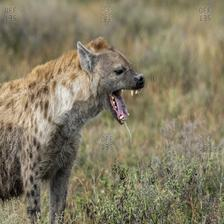hyena: (0, 38, 144, 224)
